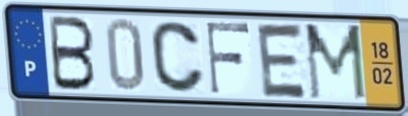0: (103, 16, 148, 95)
B: (47, 13, 98, 93)
C: (148, 19, 208, 96)
E: (254, 21, 310, 101)
F: (204, 20, 253, 97)
M: (302, 21, 369, 103)
